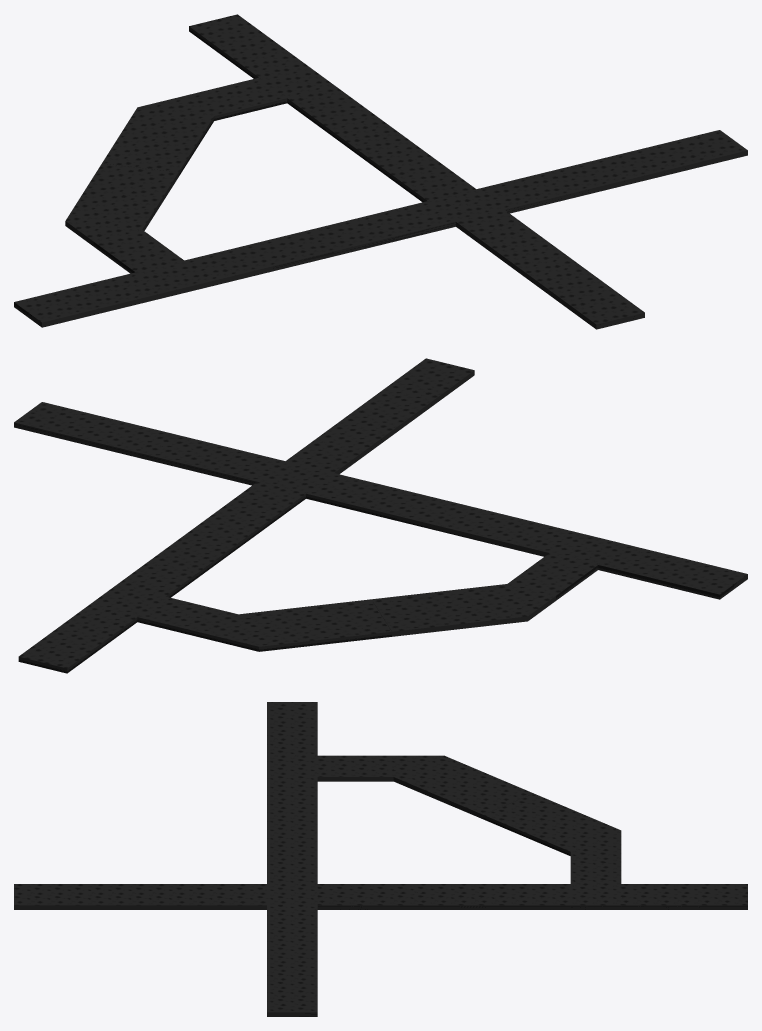
Rendered from path.fbx.
3 views of the same model, one above another, from view 1: azimuth 30°, elevation 25°; view 2: azimuth 150°, elevation 25°; view 3: azimuth 270°, elevation 25° (orthographic). The views are drawn at different scales.
Visible parts, largest first — view 1: Cube; view 2: Cube; view 3: Cube.
Boxes of the visible parts, x1,y1,x2,y2 form: Cube: (14,14,747,329); Cube: (14,358,747,673); Cube: (14,702,747,1016).
Bounding box in the file's own units: 2900 × 20 × 2900.
